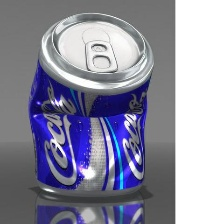can: (26, 9, 152, 197), (32, 189, 150, 224)
